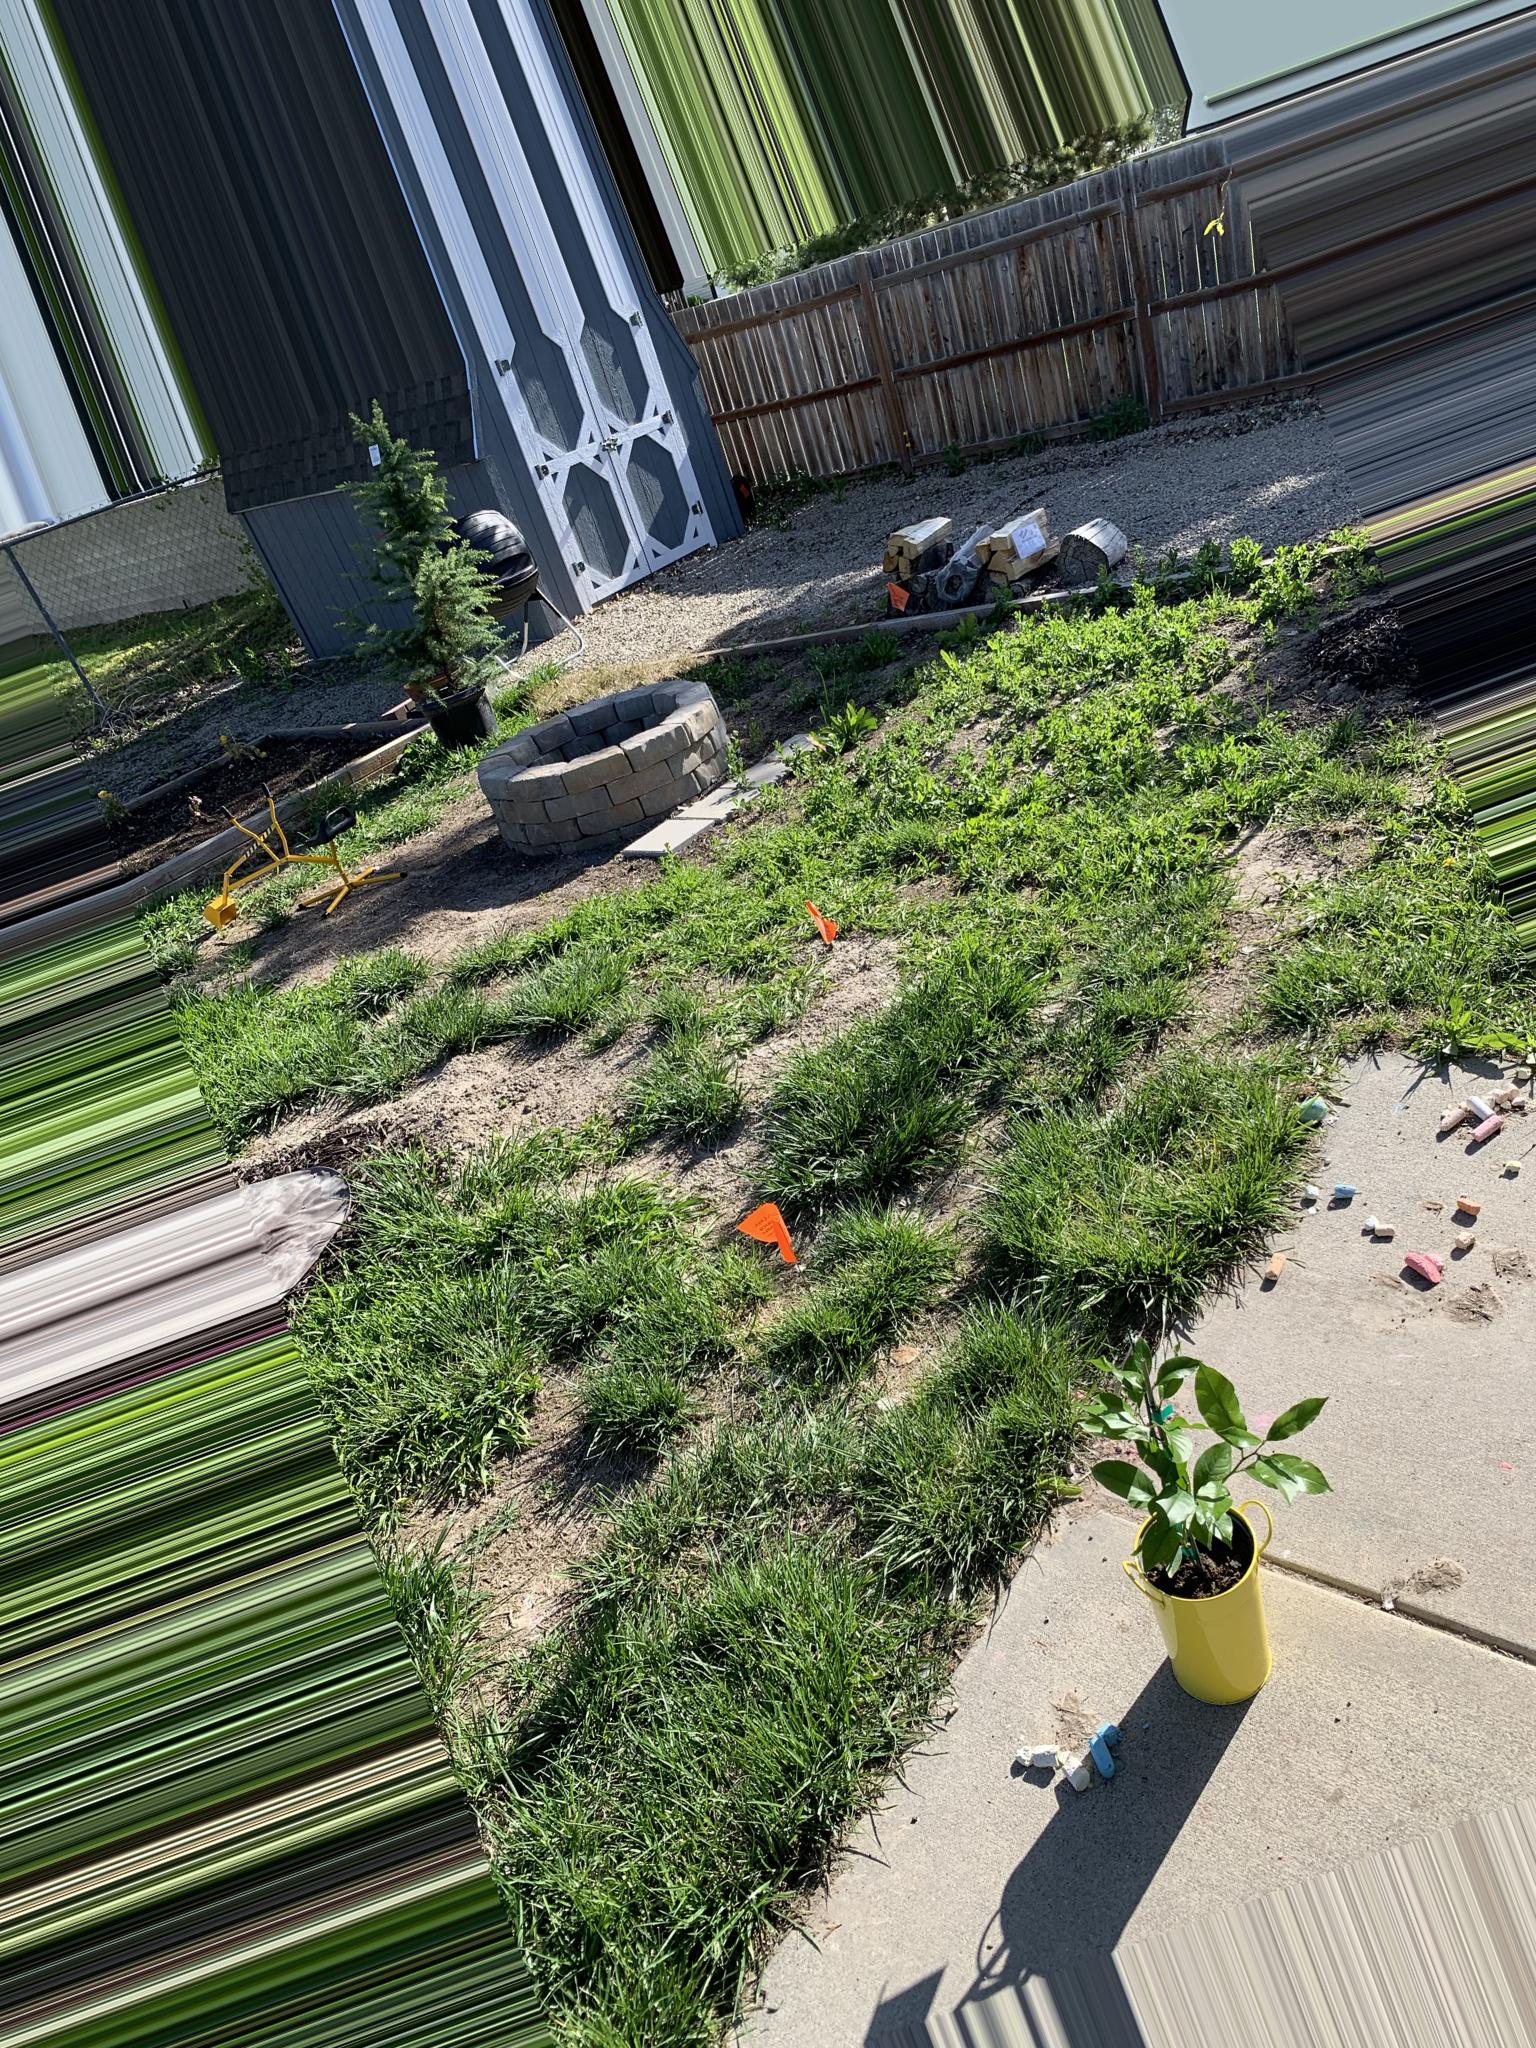patch: (463, 1434, 676, 1666), (1155, 784, 1357, 1006), (723, 939, 984, 1097), (440, 1026, 642, 1201), (357, 851, 536, 980), (563, 668, 757, 760)
